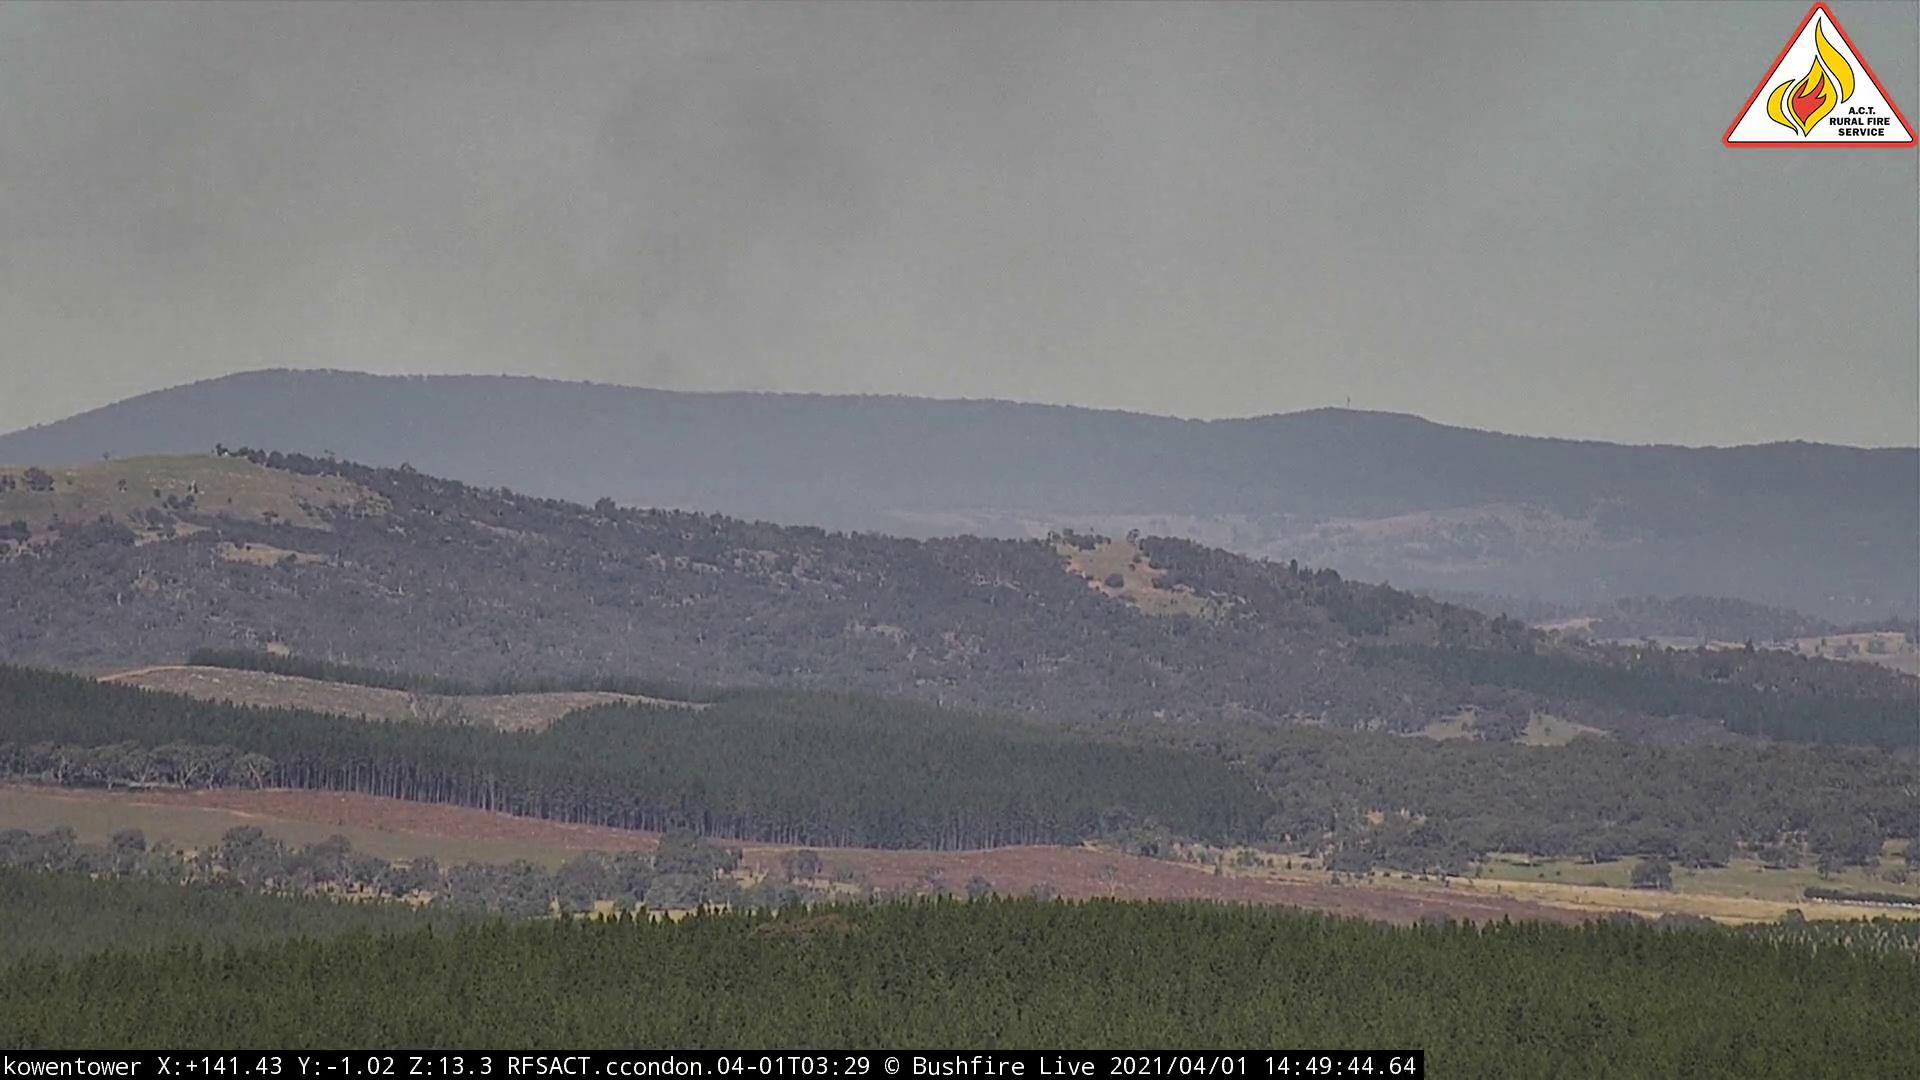Smoke: (564, 55, 913, 400)
